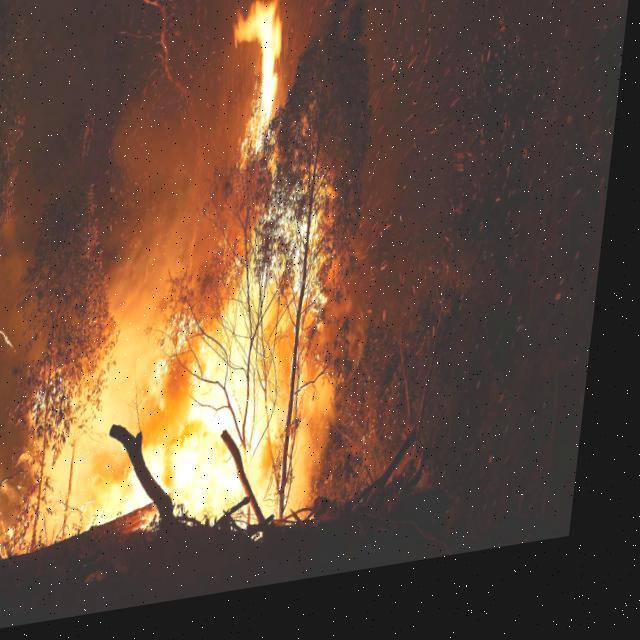Fire: (29, 264, 363, 573), (220, 0, 290, 137)
